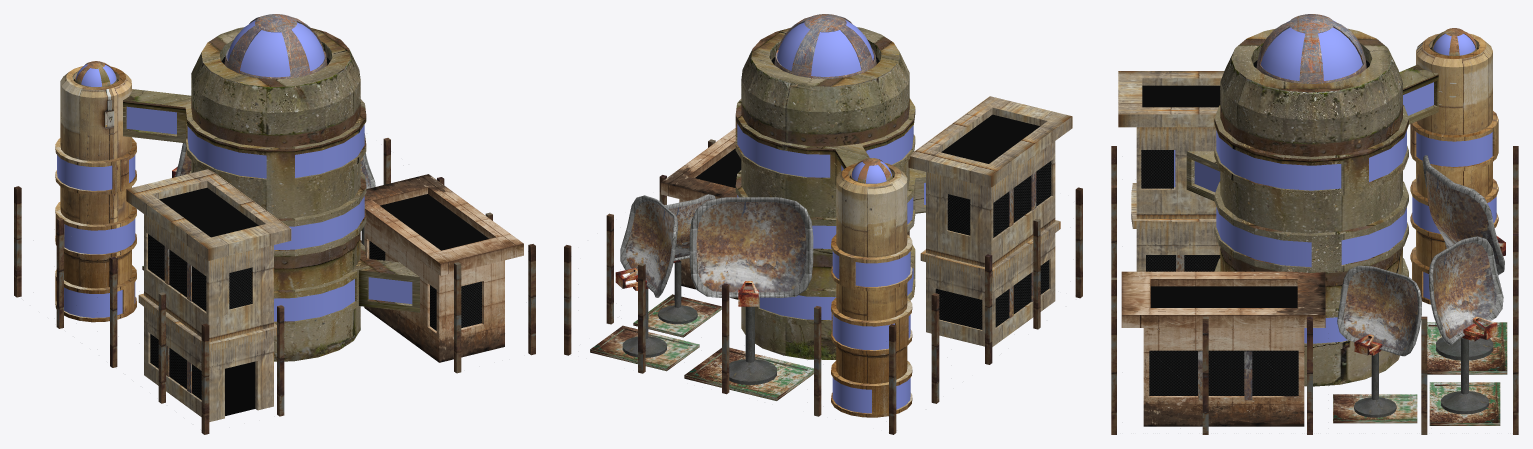
Rendered from Laboratory.FBX.
3 views of the same model, side by side, from view 1: azimuth 30°, elevation 25°; view 2: azimuth 150°, elevation 25°; view 3: azimuth 270°, elevation 25° (orthographic). The views are drawn at different scales.
Visible parts, largest first — view 1: Cylinder050, Box002, Box020, Cylinder051, Laboratory, Sphere001, Cylinder031, Sphere002, Cylinder033, Cylinder034, Cylinder001, Cylinder048 (+3 smaller); view 2: Cylinder050, Box002, Cylinder051, Box021, Laboratory, Sphere001, Box006, Box020, Box023, Box004, Cylinder053, Box024 (+14 smaller); view 3: Cylinder050, Box020, Box002, Cylinder051, Laboratory, Box026, Sphere001, Box006, Box021, Box004, Box023, Box024 (+13 smaller).
Boxes of the visible parts, x1,y1,x2,y2 form: Cylinder050: (123,27,419,361); Box002: (126,169,291,421); Box020: (364,174,523,362); Cylinder051: (55,66,136,322); Laboratory: (148,234,481,399); Sphere001: (224,14,327,79); Cylinder031: (201,323,209,434); Sphere002: (74,61,117,87); Cylinder033: (528,244,535,355); Cylinder034: (277,305,284,416); Cylinder001: (14,186,21,297); Cylinder048: (158,292,165,403); Cylinder050: (735,27,925,359); Box002: (908,96,1072,346); Cylinder051: (831,163,912,417); Box021: (689,197,813,297); Laboratory: (935,161,1051,329); Sphere001: (774,14,876,78); Box006: (620,195,678,297); Box020: (660,128,741,299); Box023: (684,347,813,400); Box004: (590,325,699,371); Cylinder053: (729,306,776,385); Box024: (633,294,721,337); Cylinder050: (1186,28,1438,386); Box020: (1121,271,1325,426); Box002: (1118,71,1224,271); Cylinder051: (1410,33,1498,304); Laboratory: (1141,150,1298,395); Box026: (1337,265,1421,356); Sphere001: (1256,14,1366,83); Box006: (1428,236,1503,345); Box021: (1422,155,1504,275); Box004: (1429,382,1500,425); Box023: (1427,322,1507,374); Box024: (1333,394,1417,423).
Size of the model in its own units: 970 by 860 by 965.
